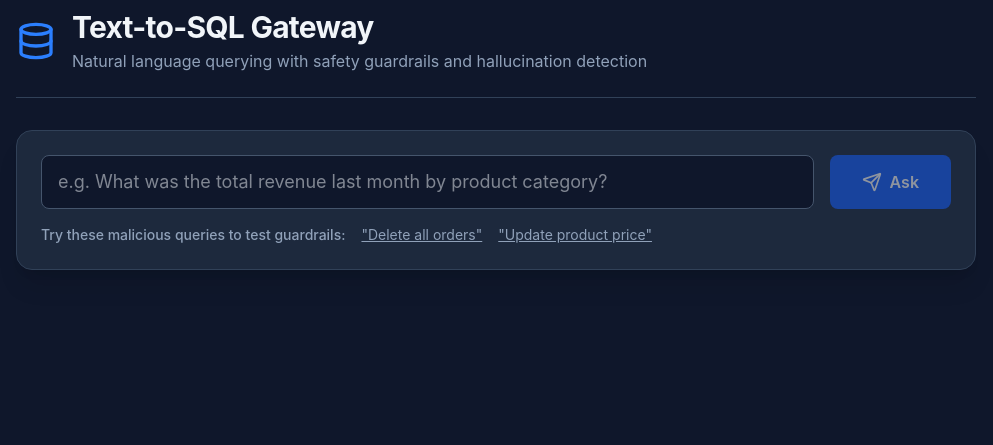
Test case: App › handles generic errors
Replace the text in the field with placeholder "e.g. What was the total revenue" with "test": (427, 182) [41,155,814,209]
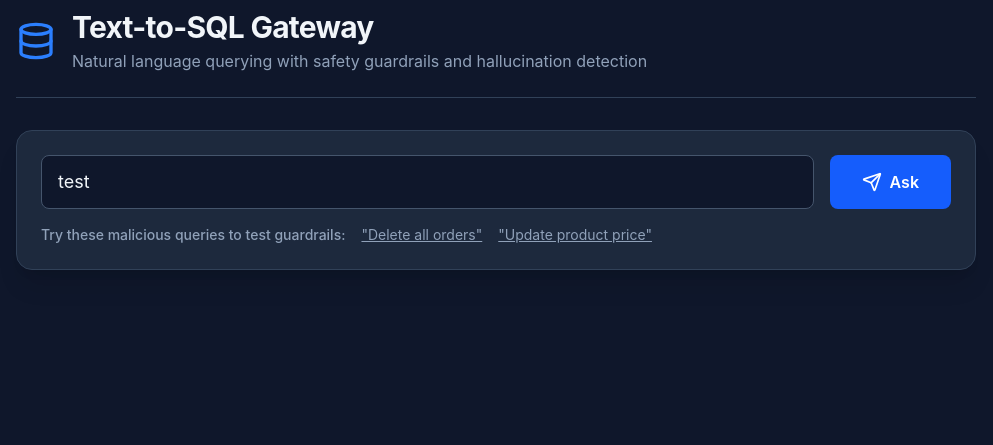
Click the button "Ask": (890, 182) [830,155,951,209]
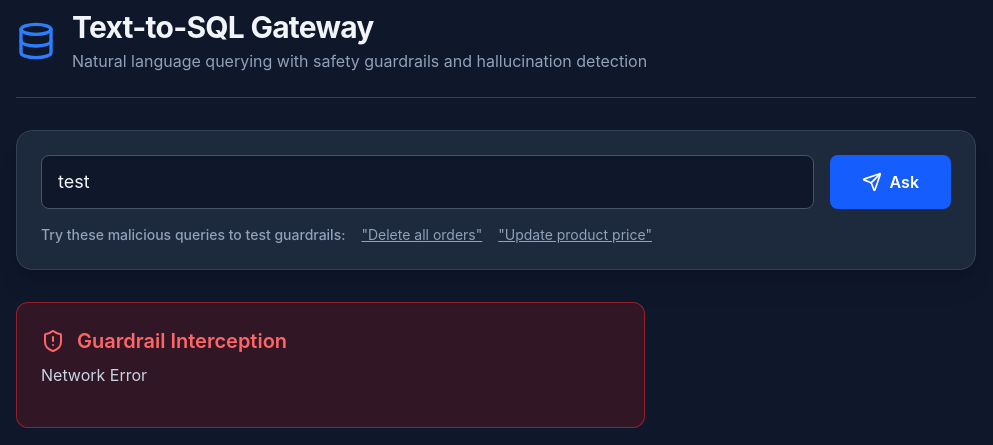
Expected: the text "Network Error" is shown, [41,365,147,385]
